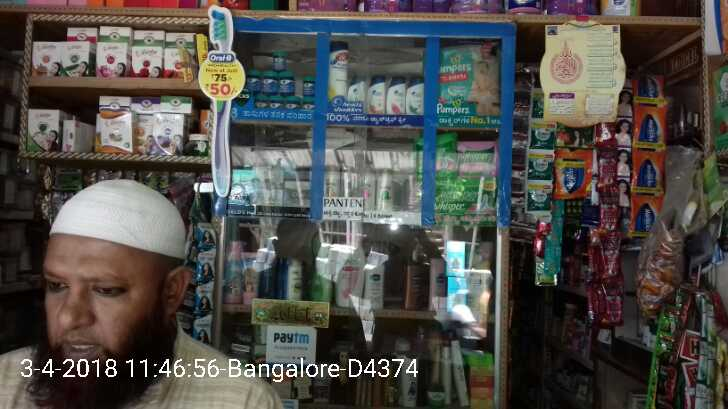vicks: (240, 47, 319, 110)
